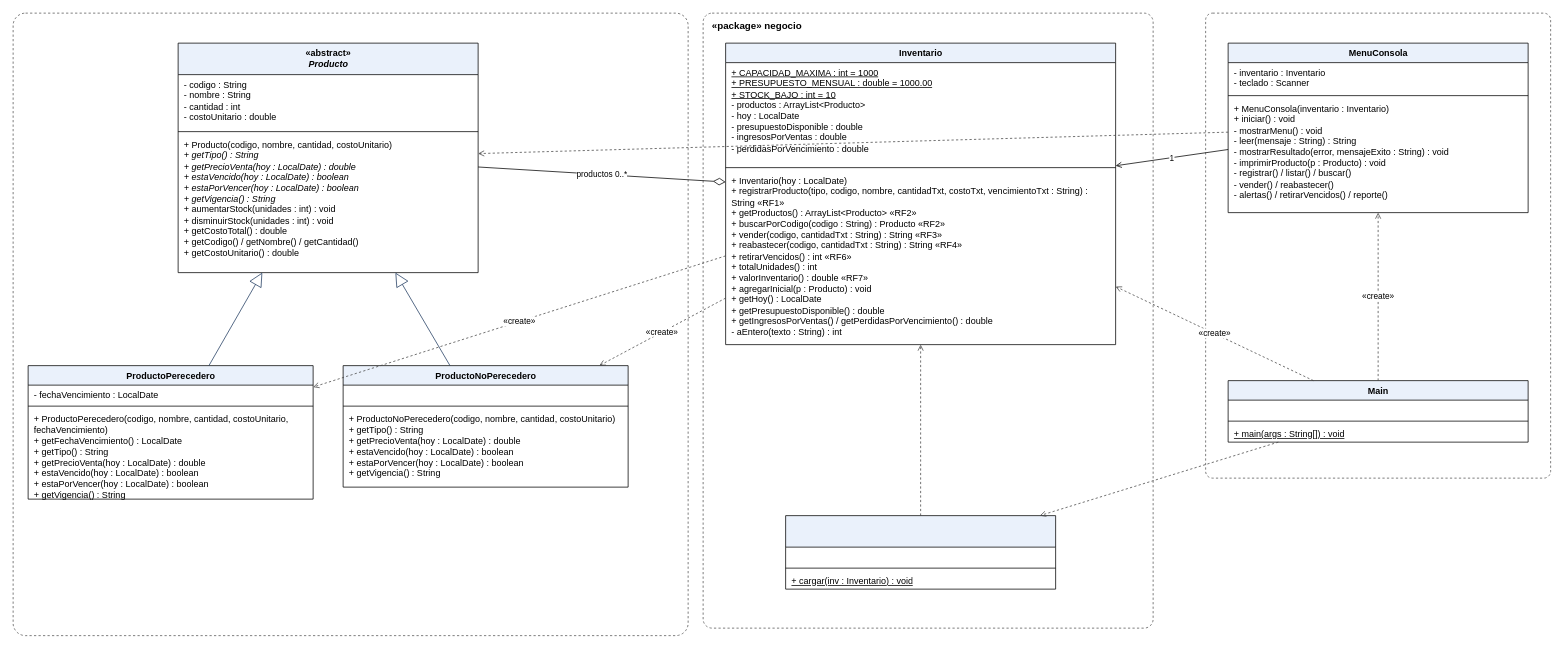
Image size: 1564x649. Some labels were removed from this diagram. Here are the shapes that lost their labels. From the top down, the box of each, then its label:
(1205, 12, 1551, 478): «package» interfaz
(12, 12, 688, 636): «package» modelo
(785, 515, 1056, 589): «utility» DatosIniciales
